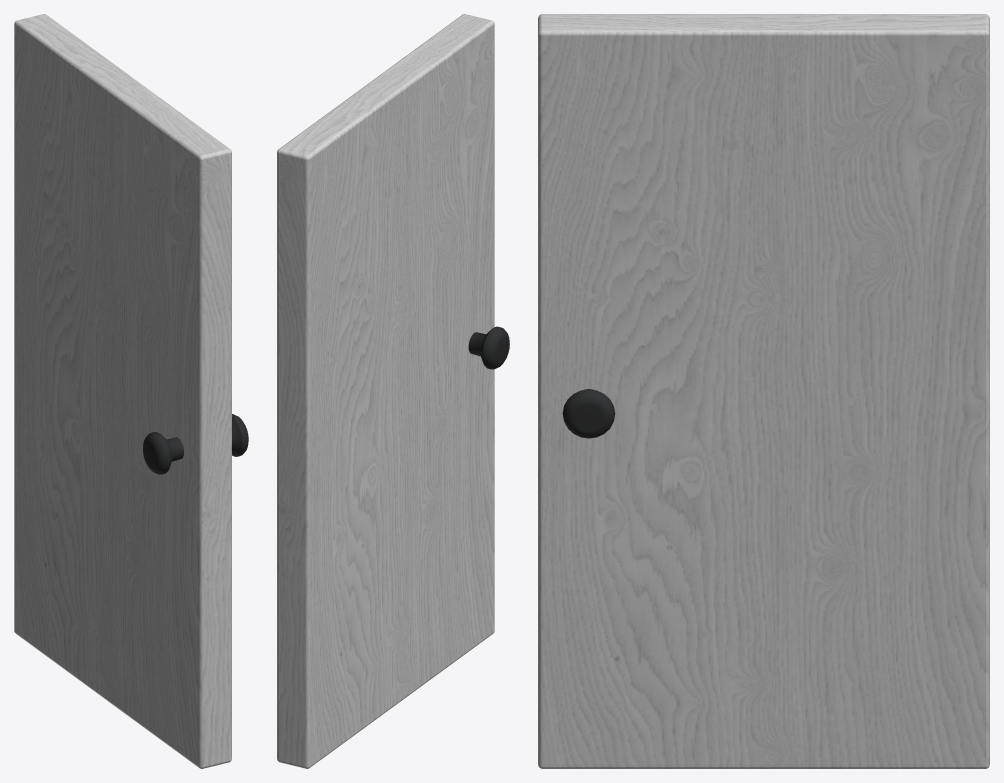
Rendered from Door.fbx.
3 renders of one model, left to right at view 1: azimuth 30°, elevation 25°; view 2: azimuth 150°, elevation 25°; view 3: azimuth 270°, elevation 25°, orthographic. The views are drawn at different scales.
Visible parts, largest first — view 1: polySurface18; view 2: polySurface18; view 3: polySurface18.
Boxes of the visible parts, box(x1,y1,x2,y2) form: polySurface18: box(14, 14, 248, 768); polySurface18: box(277, 14, 509, 768); polySurface18: box(538, 14, 989, 768).
Bounding box in the file's own units: 30.5 × 197 × 109.
